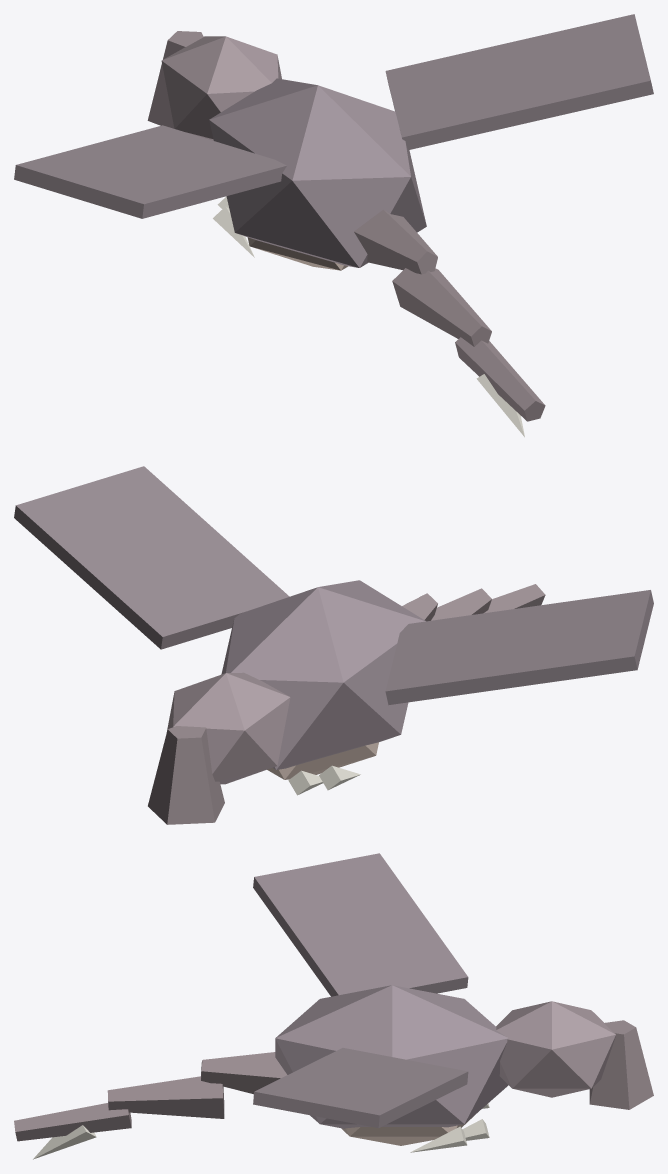
The model's file is wyvern.glb.
3 views of the same model, one above another, from view 1: azimuth 30°, elevation 25°; view 2: azimuth 150°, elevation 25°; view 3: azimuth 270°, elevation 25° (orthographic). The views are drawn at different scales.
Visible parts, largest first — view 1: WyvernBody; view 2: WyvernBody; view 3: WyvernBody.
Boxes of the visible parts, box(x1,y1,x2,y2) form: WyvernBody: box(14, 14, 653, 437); WyvernBody: box(14, 466, 653, 824); WyvernBody: box(14, 853, 653, 1159).
Bounding box in the file's own units: 2.82 × 0.8724 × 2.88.
